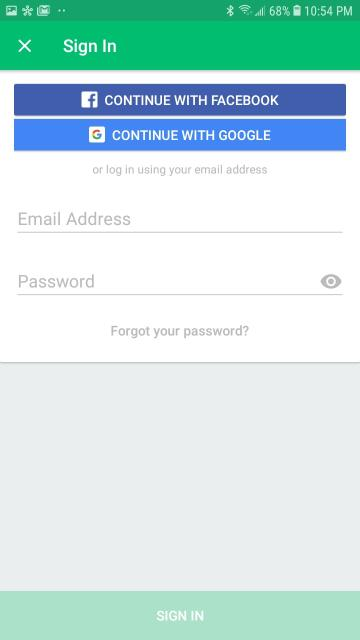EditText: (17, 212, 342, 232), (17, 274, 342, 294)
Icon: (320, 274, 342, 288), (18, 40, 31, 52)
Image: (89, 127, 105, 143), (81, 92, 97, 108)
Text: (93, 164, 267, 176), (104, 94, 278, 106), (112, 324, 248, 338), (18, 211, 130, 225), (114, 130, 270, 140), (18, 274, 94, 288), (63, 38, 116, 56), (156, 611, 204, 621)
TextButton: (0, 591, 359, 640)
TextImageButton: (15, 84, 346, 116), (15, 120, 346, 150)
Toolbar: (0, 22, 360, 70)
UpperTaskBar: (0, 0, 359, 20)
